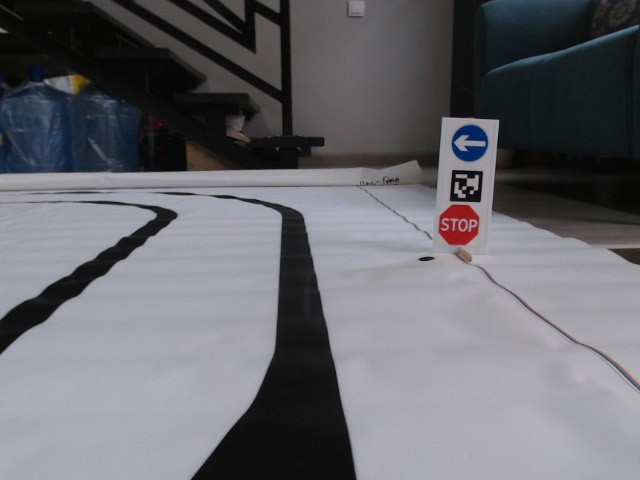Stop: (437, 203, 481, 247)
